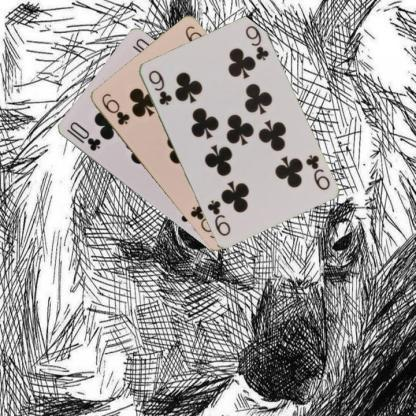10c: (63, 119, 102, 153)
6c: (99, 90, 131, 127)
9c: (144, 66, 173, 107), (302, 152, 331, 192)
